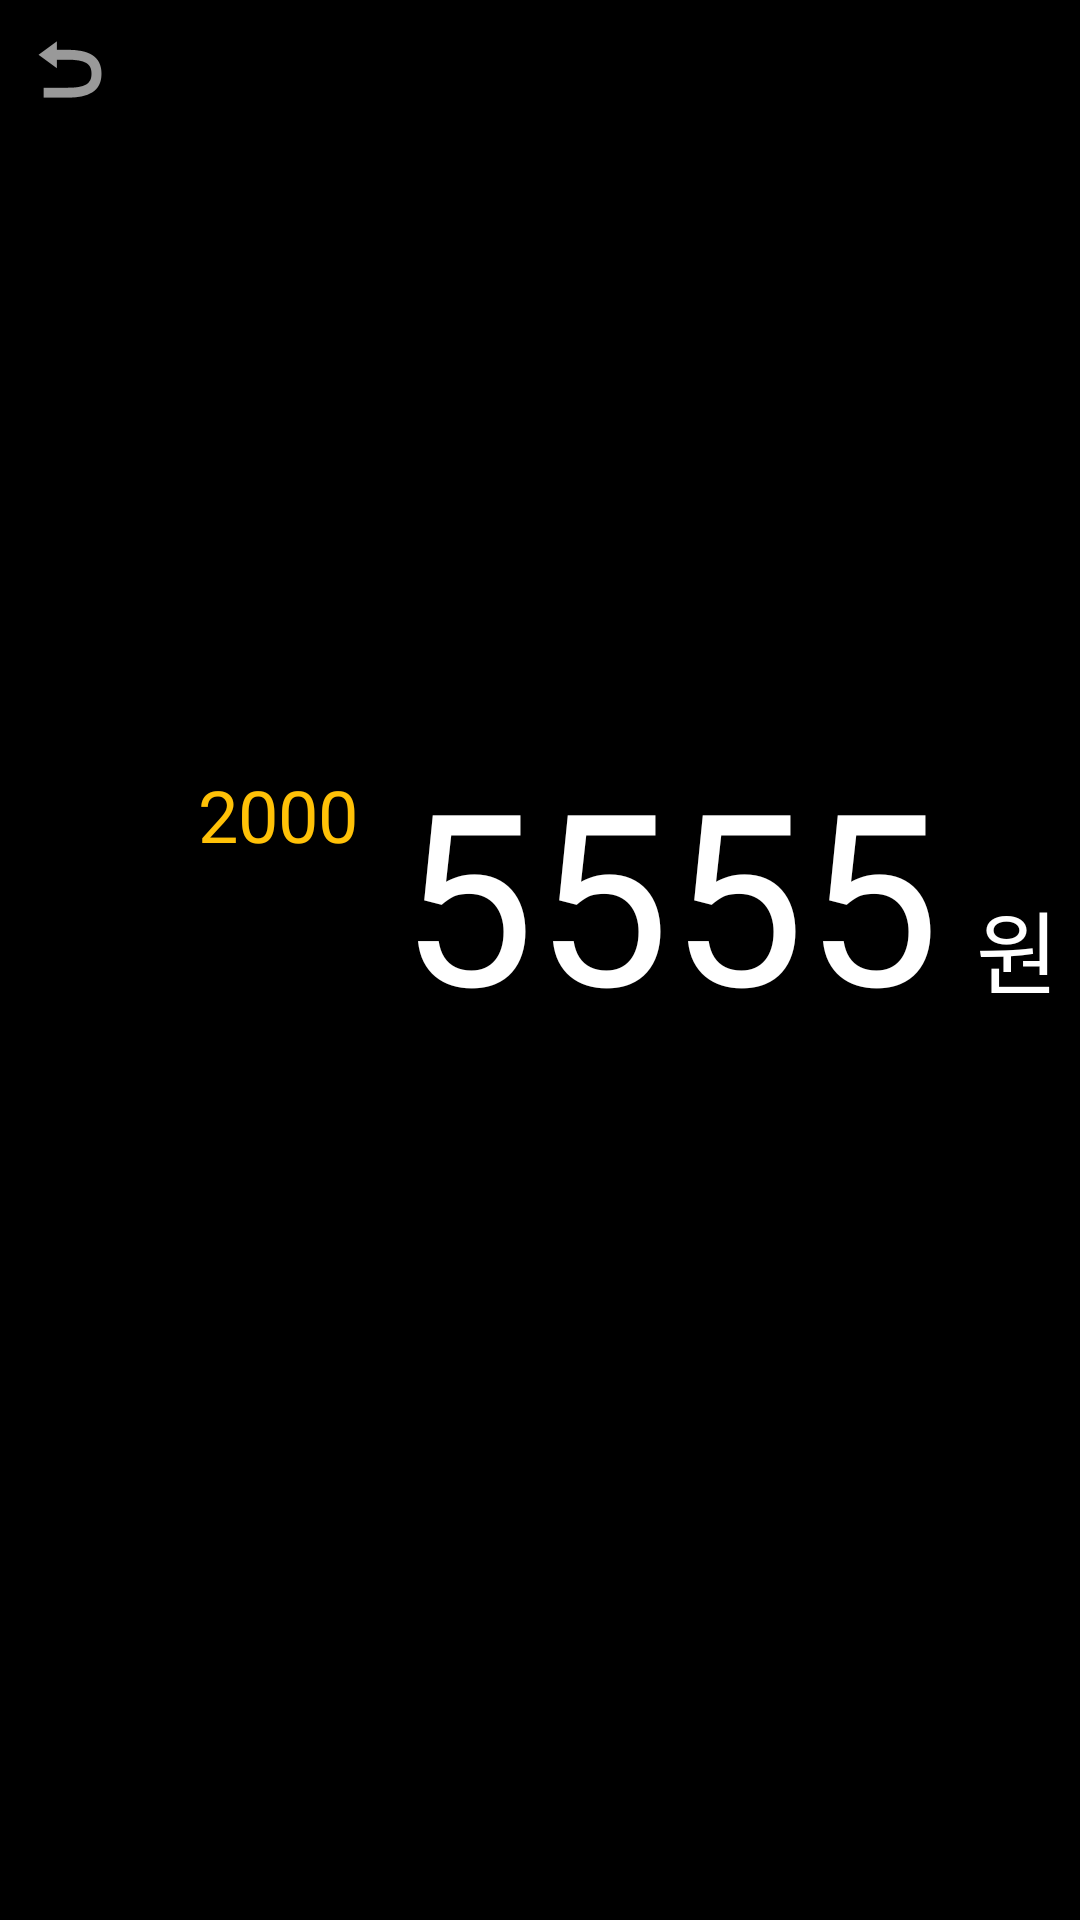

Icon click points for this 1080px×1920px phone screenshot, format (x=x, y=y):
revert: (x=70, y=69)
